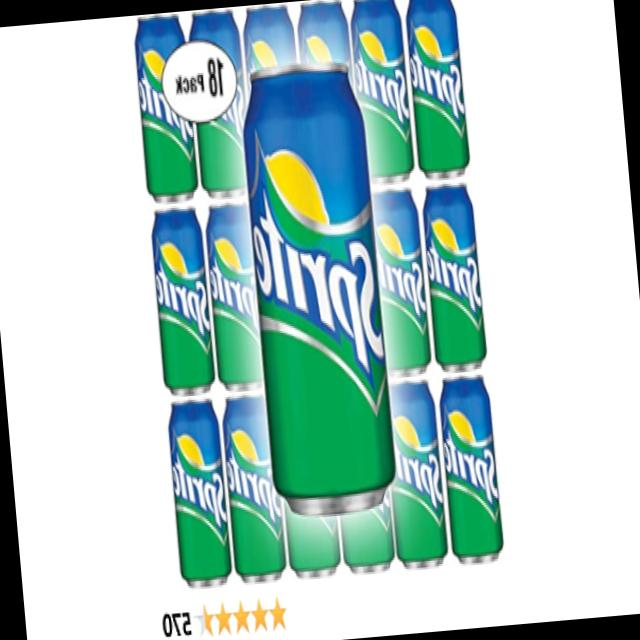sprite: (245, 80, 399, 504), (360, 188, 436, 380), (395, 0, 474, 183), (376, 378, 452, 566), (127, 31, 200, 216), (431, 366, 504, 550), (218, 392, 286, 588), (420, 187, 491, 372), (164, 401, 233, 591), (352, 1, 418, 192), (202, 196, 264, 394), (143, 208, 212, 384)
